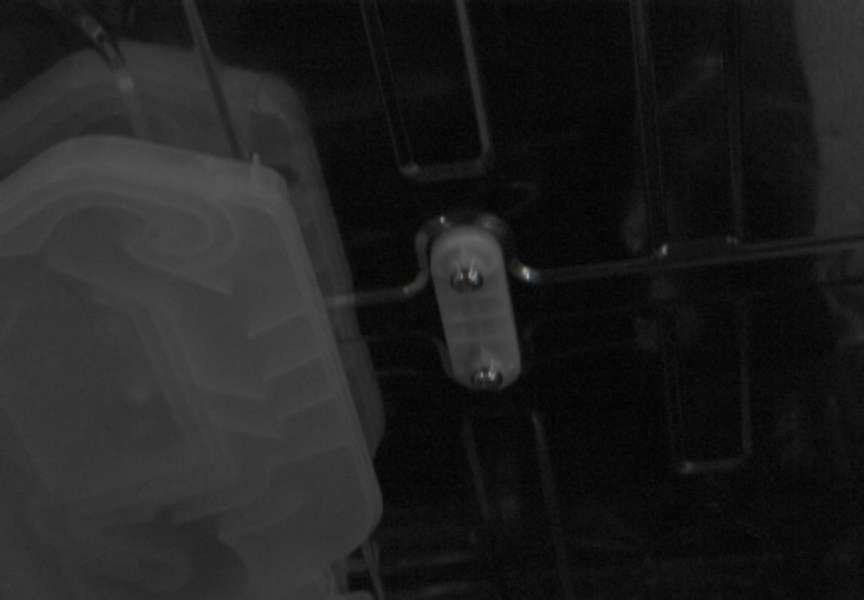screw: (450, 266, 484, 293), (471, 366, 503, 391)
